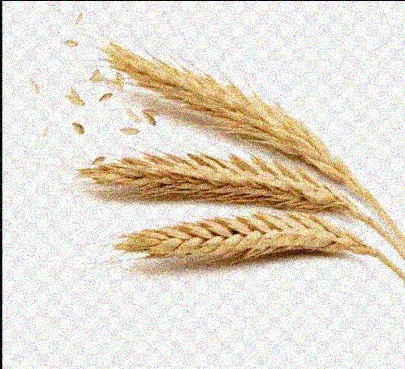wheat: (93, 40, 358, 186), (50, 142, 367, 216), (88, 210, 375, 257)
